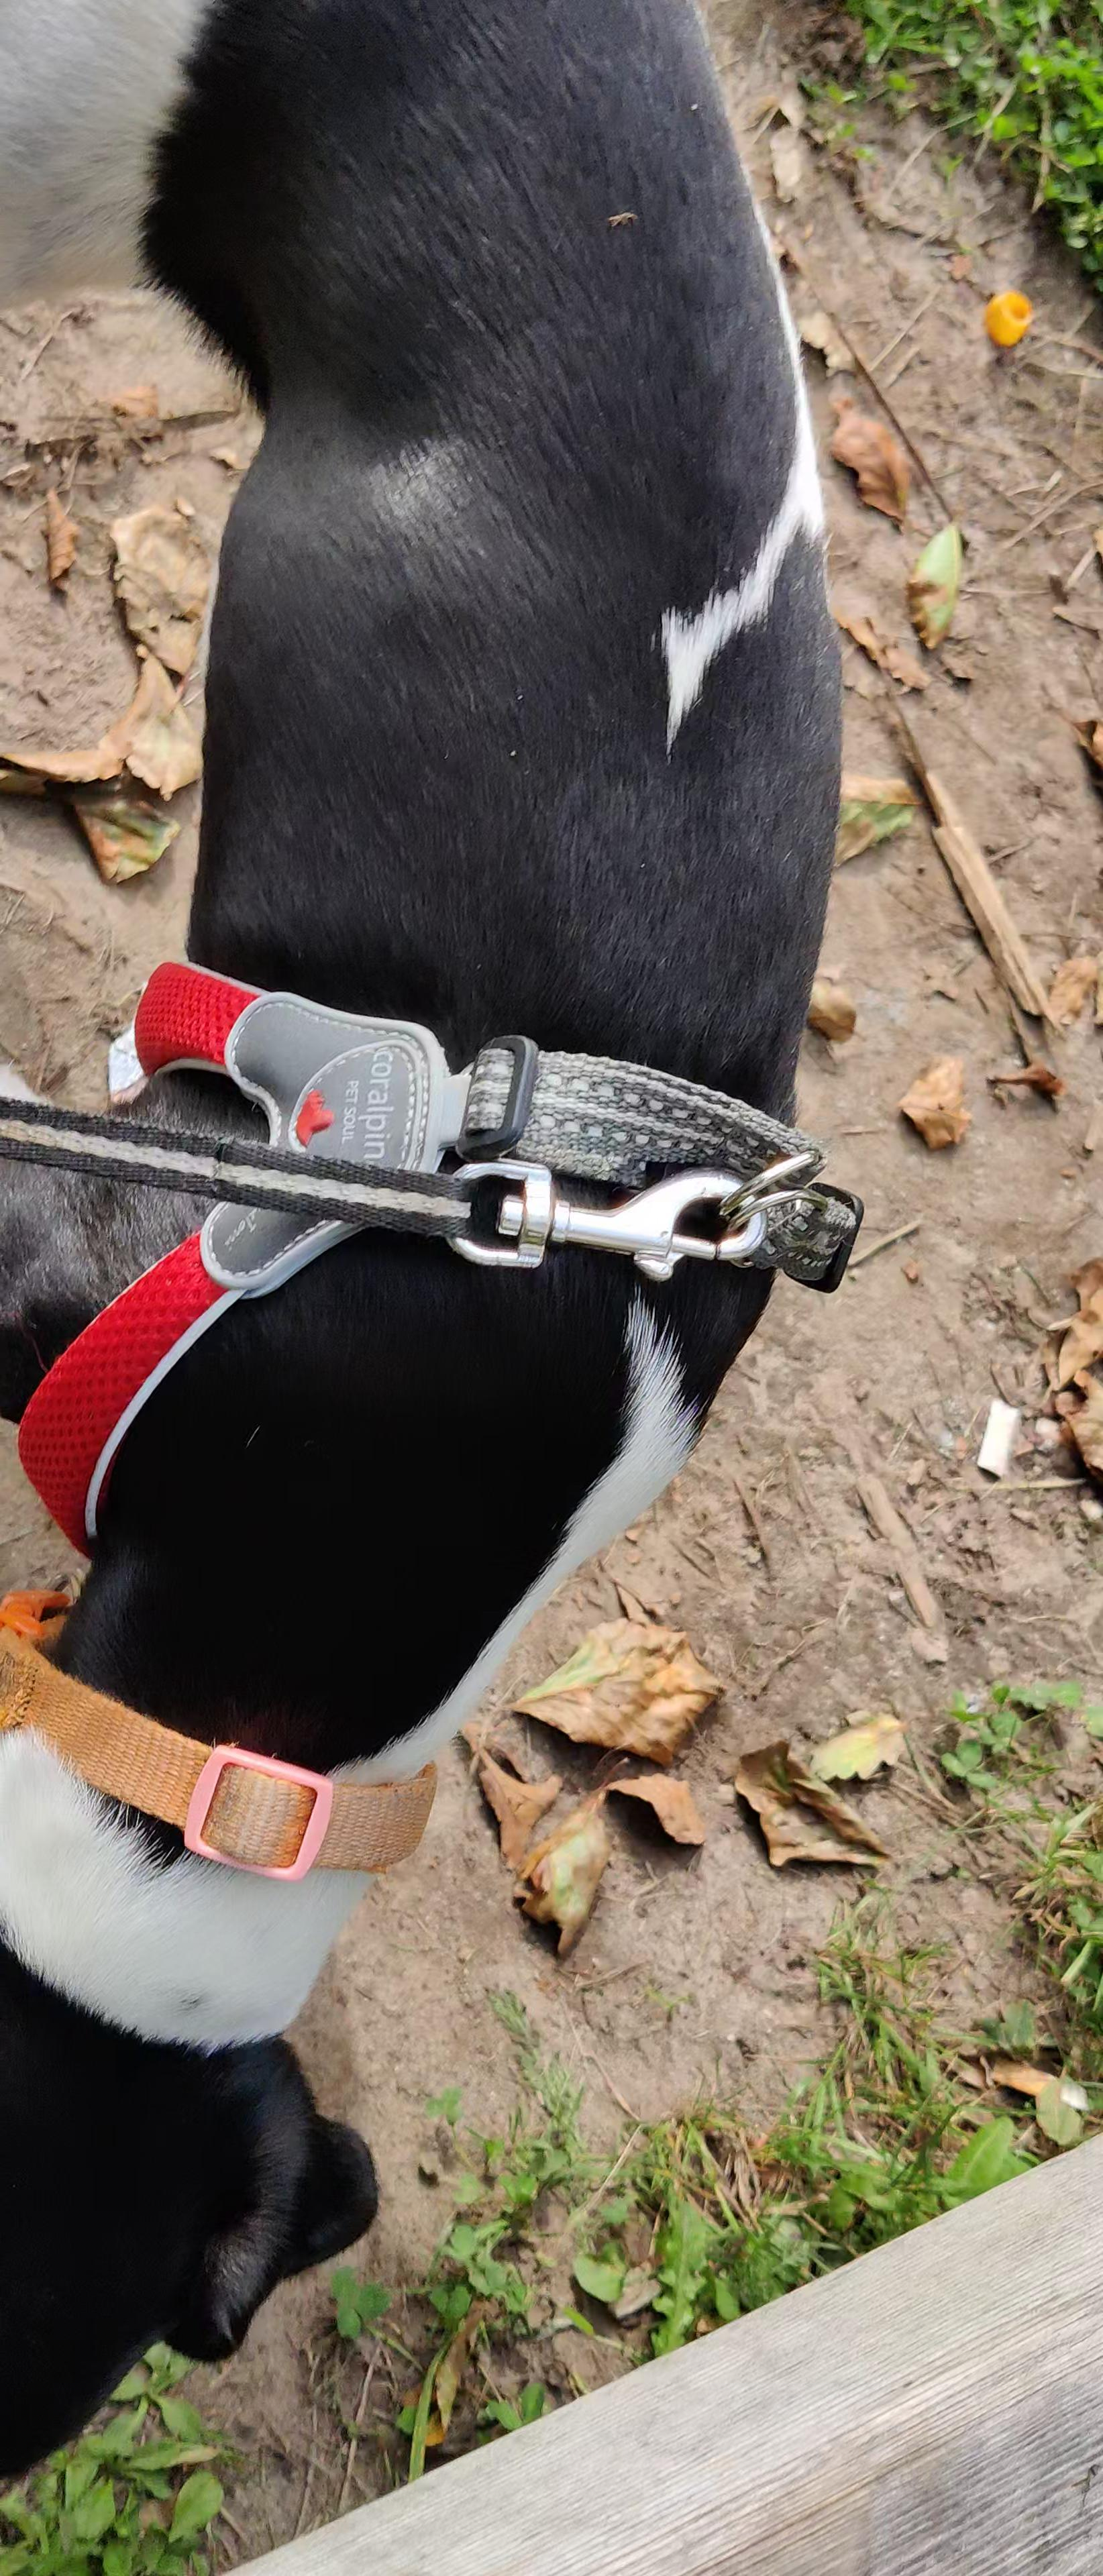Dog: (0, 0, 851, 2507)
